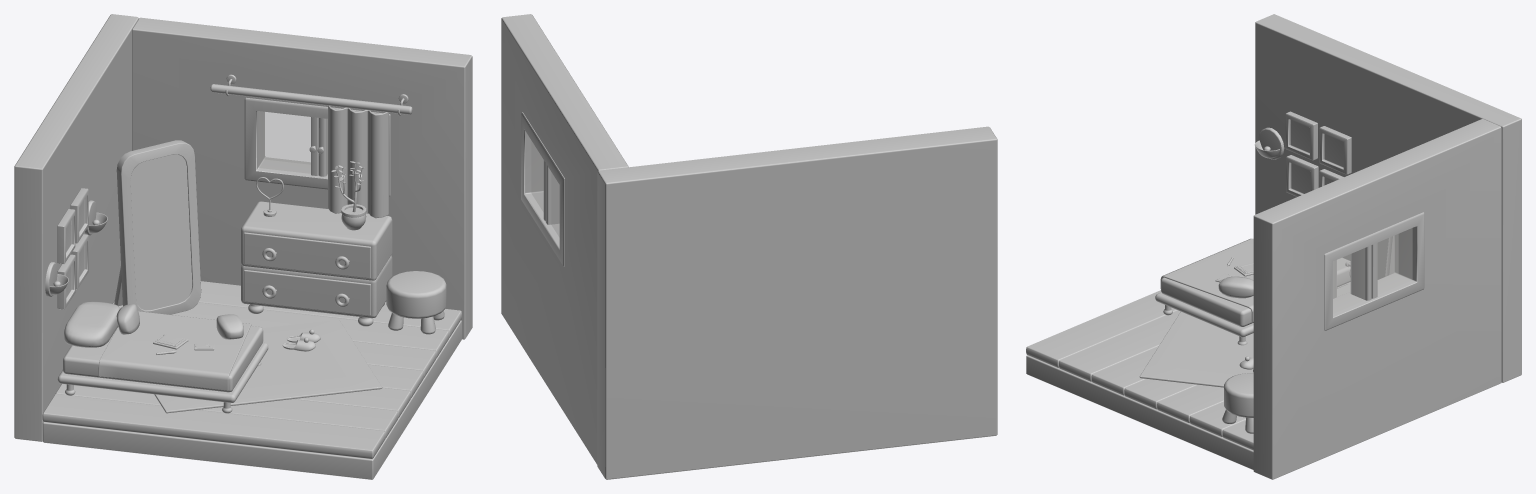
File: Bedroom_25.fbx
The picture shows the model from 3 angles, left to right: view 1: azimuth 30°, elevation 25°; view 2: azimuth 150°, elevation 25°; view 3: azimuth 270°, elevation 25°; orthographic projection. The views are drawn at different scales.
Parts seen in each view (by area): view 1: Room_25_Wall_4, Room_25_Wall_2, Room_25_Floor_2, Room_25_Dresser_1, Room_25_Mirror_1, Room_25_Bed_1, Room_25_Floor_1, Room_25_Carpet_1, Room_25_Curtains_1, Room_25_Window_1, Room_25_Chair_1, Room_25_Pillow_1 (+9 smaller); view 2: Room_25_Wall_2, Room_25_Wall_4, Room_25_Window_1; view 3: Room_25_Wall_4, Room_25_Wall_2, Room_25_Floor_2, Room_25_Window_1, Room_25_Bed_1, Room_25_Carpet_1, Room_25_Floor_1, Room_25_Chair_1, Room_25_Painting_1, Room_25_Painting_2, Room_25_Painting_4, Room_25_Lamp_1 (+1 smaller).
Part boxes in pixels (left/top/right/bottom): Room_25_Wall_4: left=132, top=17, right=472, bottom=339; Room_25_Wall_2: left=14, top=14, right=138, bottom=441; Room_25_Floor_2: left=42, top=281, right=461, bottom=458; Room_25_Dresser_1: left=241, top=201, right=392, bottom=326; Room_25_Mirror_1: left=114, top=140, right=201, bottom=314; Room_25_Bed_1: left=57, top=311, right=268, bottom=413; Room_25_Floor_1: left=42, top=320, right=461, bottom=479; Room_25_Carpet_1: left=154, top=319, right=382, bottom=413; Room_25_Curtains_1: left=210, top=74, right=412, bottom=218; Room_25_Window_1: left=244, top=97, right=390, bottom=196; Room_25_Chair_1: left=386, top=271, right=446, bottom=334; Room_25_Pillow_1: left=64, top=301, right=119, bottom=347; Room_25_Wall_2: left=597, top=126, right=997, bottom=479; Room_25_Wall_4: left=501, top=14, right=628, bottom=464; Room_25_Window_1: left=521, top=112, right=564, bottom=266; Room_25_Wall_4: left=1253, top=119, right=1501, bottom=479; Room_25_Wall_2: left=1255, top=14, right=1521, bottom=382; Room_25_Floor_2: left=1026, top=290, right=1253, bottom=450; Room_25_Window_1: left=1324, top=212, right=1424, bottom=330; Room_25_Bed_1: left=1155, top=238, right=1350, bottom=345; Room_25_Carpet_1: left=1139, top=312, right=1253, bottom=387; Room_25_Floor_1: left=1026, top=355, right=1253, bottom=469; Room_25_Chair_1: left=1222, top=373, right=1253, bottom=433; Room_25_Painting_1: left=1285, top=111, right=1317, bottom=160; Room_25_Painting_2: left=1319, top=126, right=1351, bottom=174; Room_25_Painting_4: left=1286, top=155, right=1318, bottom=196; Room_25_Lamp_1: left=1255, top=127, right=1284, bottom=159.
Size of the model in its own units: 702 by 402 by 702.
